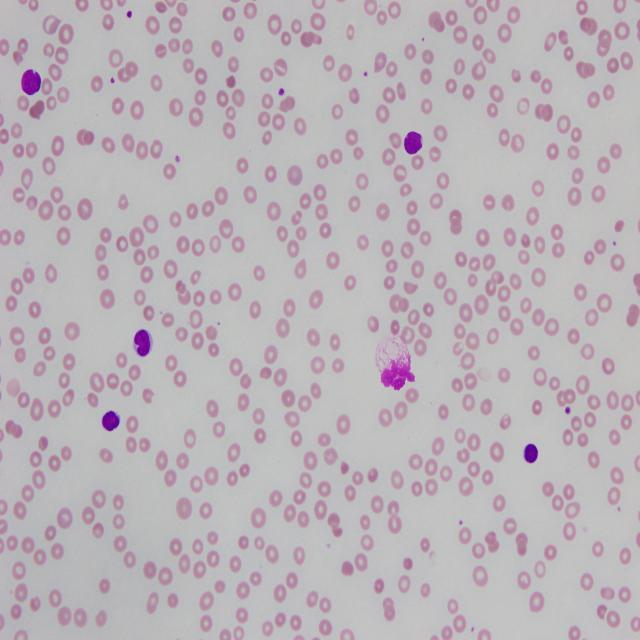cell: (21, 68, 41, 95), (134, 330, 152, 357), (404, 132, 422, 155), (102, 412, 120, 432), (524, 443, 538, 463)
